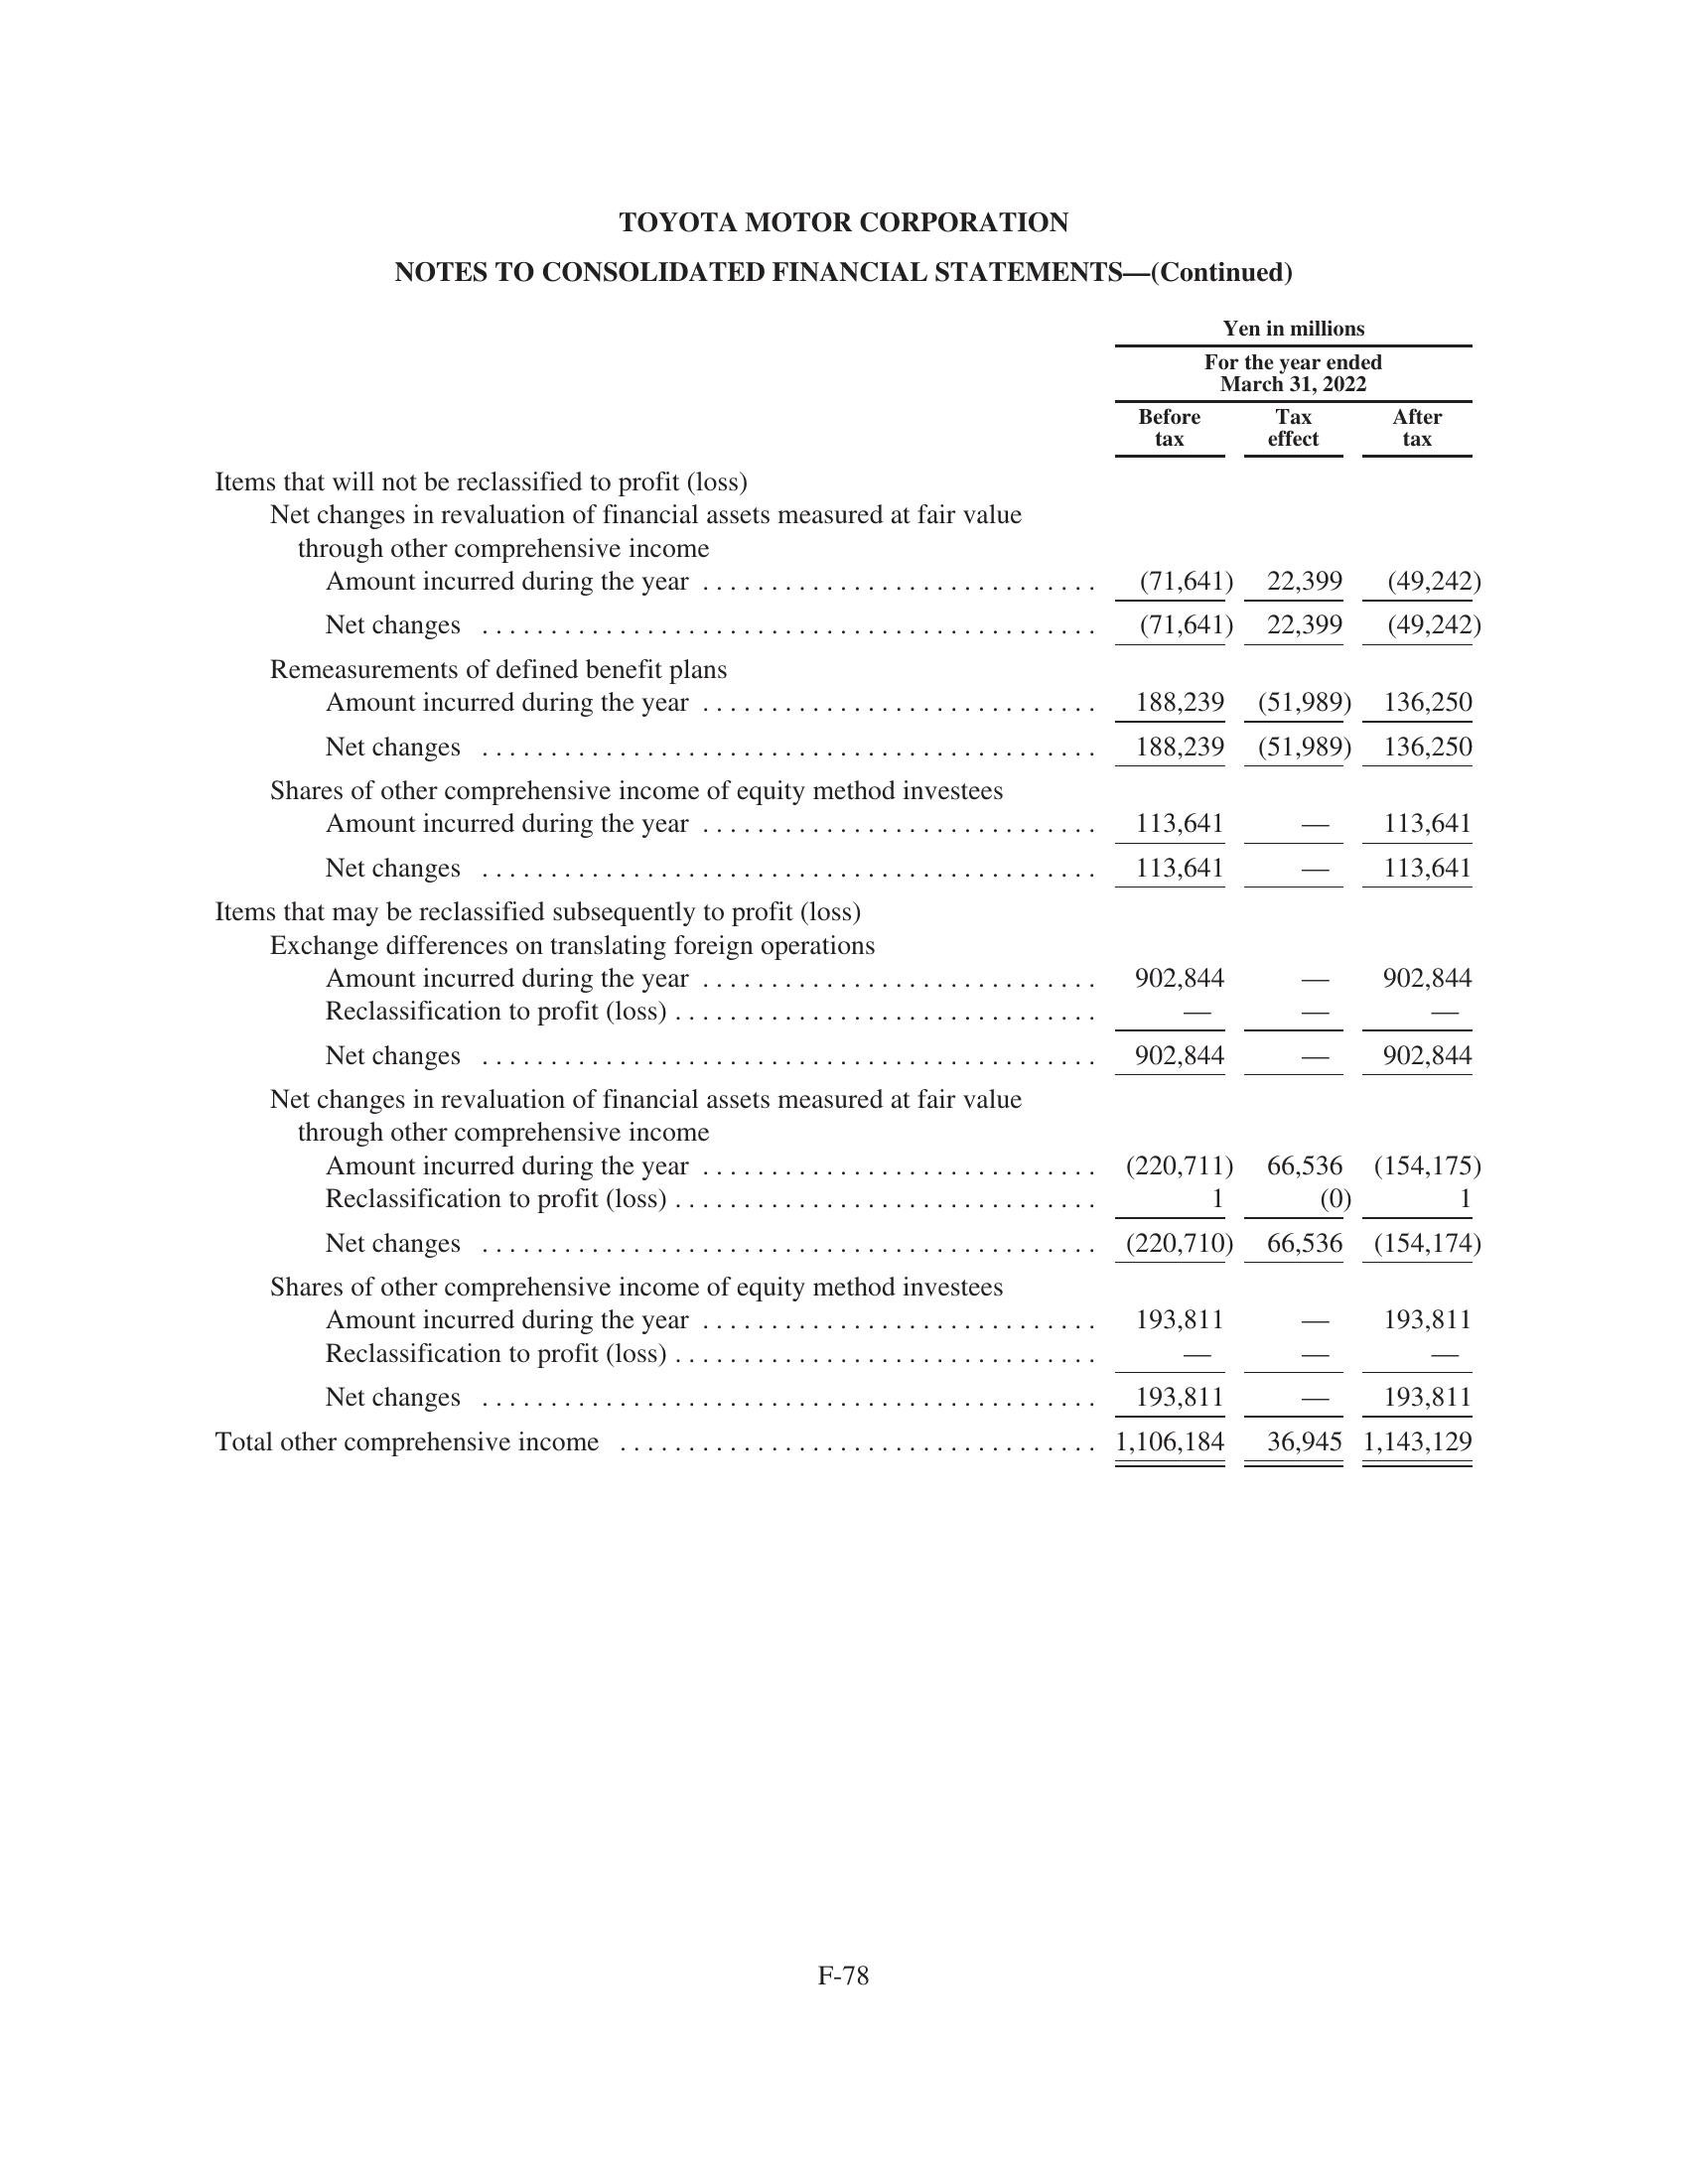Footer: (0, 1966, 1688, 2184)
Header: (0, 0, 1688, 183)
Table: (99, 307, 1500, 1494)
